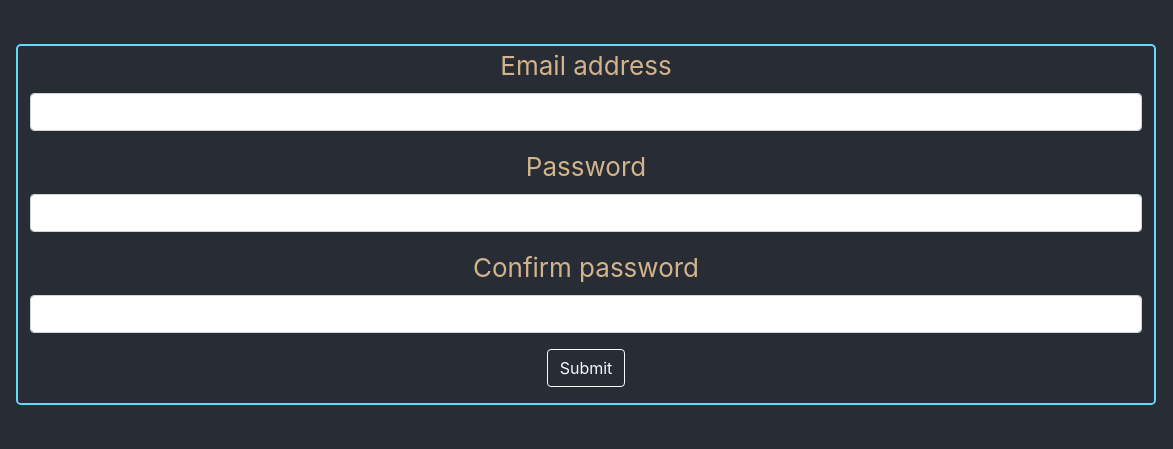
Scenario: testing the App component › form should show error message on invalid email
The width and height of the screenshot is (1173, 449).
Expected: the text "the email you provided is not valid" is not shown
In the field labelled "Email address": (586, 112) [30,92,1142,130], type "wrongemail"
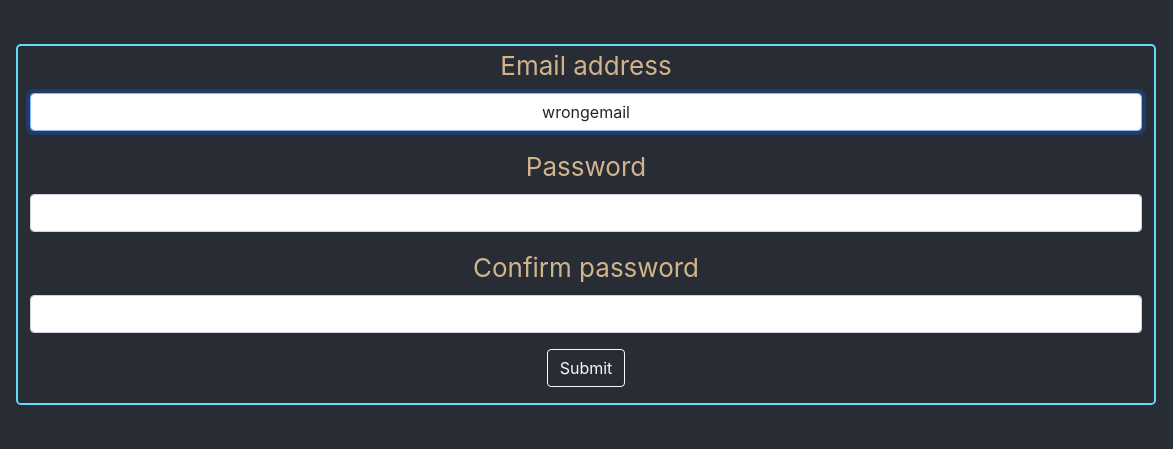
Click the button "Submit": (586, 368) [547,348,625,386]
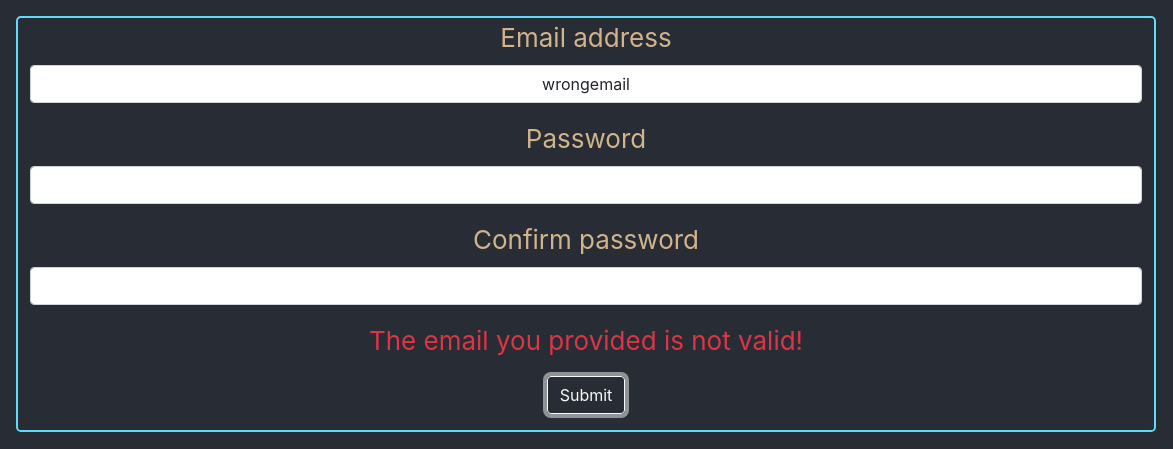
Expected: the text "The email you provided is not valid!" is shown, [369,325,803,356]
